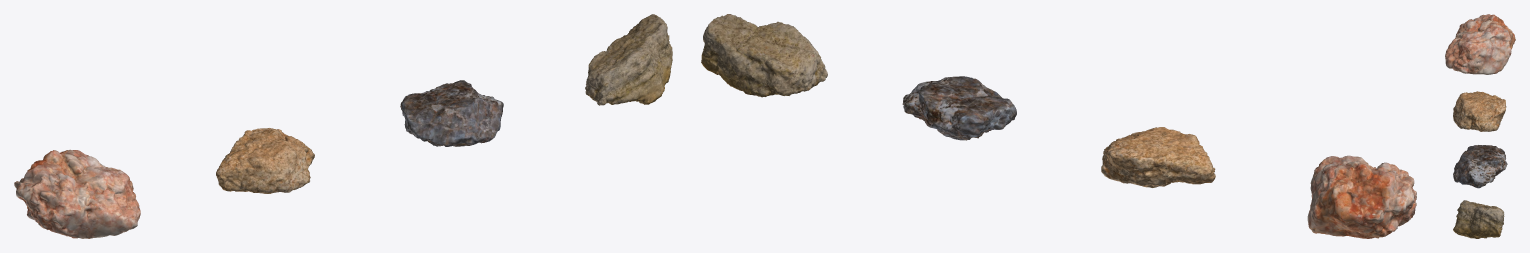
File: rock-cluster.glb
3 renders of one model, left to right at view 1: azimuth 30°, elevation 25°; view 2: azimuth 150°, elevation 25°; view 3: azimuth 270°, elevation 25°, orthographic. The views are drawn at different scales.
Visible parts, largest first — view 1: namaqualand_rocks_02_a, namaqualand_rocks_02_d, namaqualand_rocks_02_c, namaqualand_rocks_02_b; view 2: namaqualand_rocks_02_d, namaqualand_rocks_02_a, namaqualand_rocks_02_b, namaqualand_rocks_02_c; view 3: namaqualand_rocks_02_a, namaqualand_rocks_02_b, namaqualand_rocks_02_c, namaqualand_rocks_02_d.
Boxes of the visible parts, <box> form: namaqualand_rocks_02_a: <box>14,149,140,238</box>; namaqualand_rocks_02_d: <box>585,14,672,105</box>; namaqualand_rocks_02_c: <box>400,80,503,146</box>; namaqualand_rocks_02_b: <box>216,128,314,193</box>; namaqualand_rocks_02_d: <box>701,14,827,97</box>; namaqualand_rocks_02_a: <box>1307,155,1416,238</box>; namaqualand_rocks_02_b: <box>1101,127,1215,187</box>; namaqualand_rocks_02_c: <box>902,76,1016,140</box>; namaqualand_rocks_02_a: <box>1445,14,1515,74</box>; namaqualand_rocks_02_b: <box>1453,91,1506,131</box>; namaqualand_rocks_02_c: <box>1453,145,1507,188</box>; namaqualand_rocks_02_d: <box>1453,200,1504,238</box>.
Size of the model in its own units: 1.45 by 0.1525 by 0.2169.
1 material, 1 textured.
